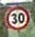limite 30: (4, 5, 30, 30)
